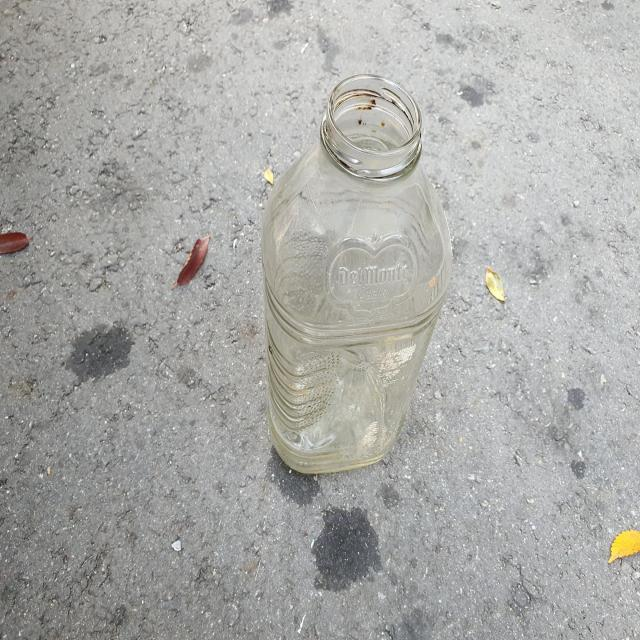glass: (262, 74, 452, 474)
